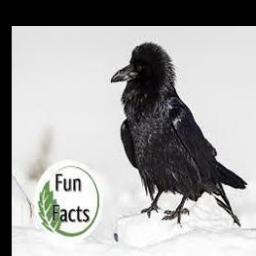Crow: (110, 42, 246, 227)
